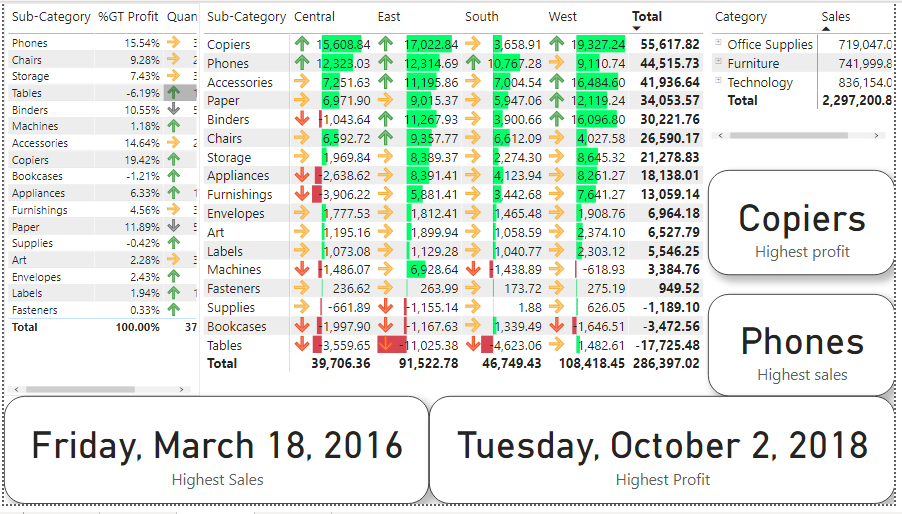

The page's visual inventory and layout, read from the dashboard file:
{"tool":"powerbi","page":{"name":"Page 3","canvas":[1280,720],"ordinal":2},"visuals":[{"type":"tableEx","fields":{"Values":["Orders.Sub-Category","Sum(Orders.Profit)","Sum(Orders.Quantity)","Sum(Orders.Segment Hierarchy.Sales)"]},"box":[0,0,281.7,564.8],"z":0},{"type":"pivotTable","fields":{"Values":["Sum(Orders.Profit)"],"Rows":["Orders.Sub-Category"],"Columns":["Orders.Region"]},"box":[281.7,0,730.1,564.8],"z":1000},{"type":"pivotTable","fields":{"Rows":["Orders.Category","Orders.Sub-Category"],"Values":["Sum(Orders.Sales)"]},"box":[1011.7,0,268.7,199.8],"z":2000},{"type":"card","title":"Most sales in :","fields":{"Values":["Min(Orders.Sub-Category)"]},"box":[1011.7,418.2,268.7,146.6],"z":3000},{"type":"card","fields":{"Values":["Min(Orders.Sub-Category)"]},"box":[1011.7,240,268.7,150.9],"z":4000},{"type":"card","fields":{"Values":["Max(Orders.Order Date)"]},"box":[0,564.8,610.8,155.2],"z":4001},{"type":"card","fields":{"Values":["Min(Orders.Order Date)"]},"box":[610.8,564.8,669.7,155.2],"z":4002}]}

Visuals, with their boxes in screenshot pixels (x1, y1, x2, y2), scaled from the page's 1280x720 canvas onto the 902x514 screenshot:
tableEx - Orders.Sub-Category x Sum(Orders.Profit): (0, 0, 199, 403)
pivotTable - Sum(Orders.Profit) x Orders.Sub-Category: (199, 0, 713, 403)
pivotTable - Orders.Category x Orders.Sub-Category: (713, 0, 901, 143)
"Most sales in :" card: (713, 299, 901, 403)
card - Min(Orders.Sub-Category): (713, 171, 901, 279)
card - Max(Orders.Order Date): (0, 403, 430, 513)
card - Min(Orders.Order Date): (430, 403, 901, 513)
